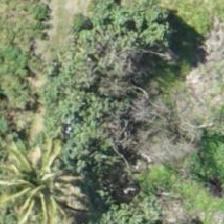coconut_tree: (0, 134, 69, 223)
